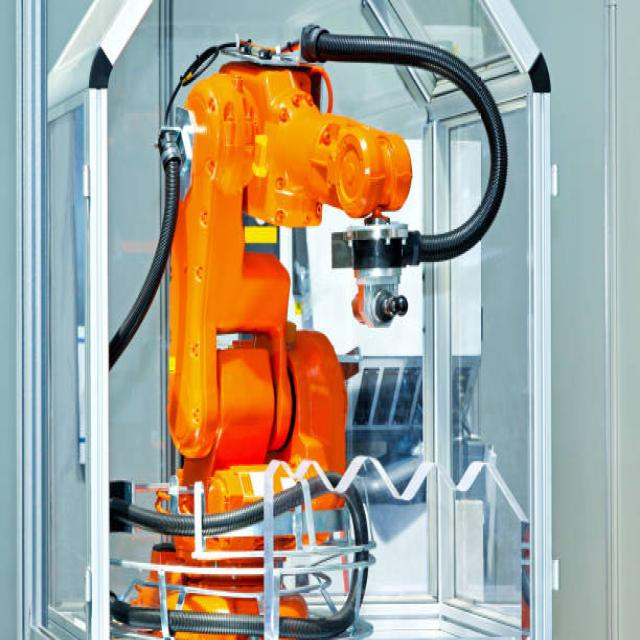Robotic-arm: (150, 44, 423, 640)
